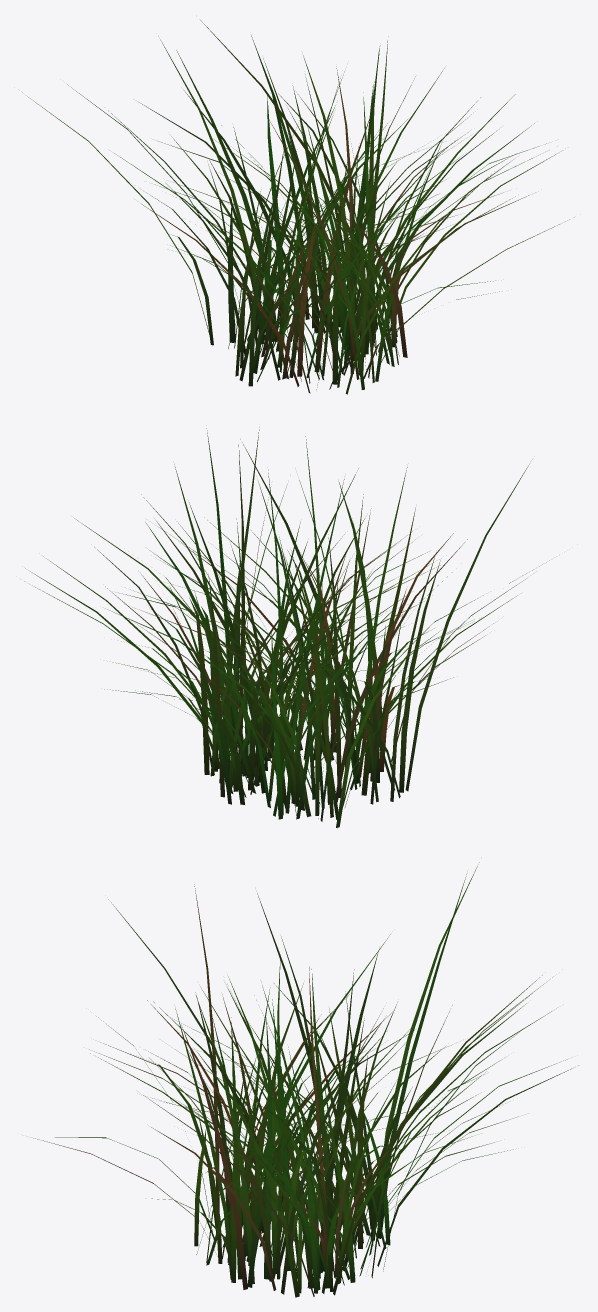
Rendered from RoadsideGrass_Green.fbx.
The picture shows the model from 3 angles, top to bottom: view 1: azimuth 30°, elevation 25°; view 2: azimuth 150°, elevation 25°; view 3: azimuth 270°, elevation 25°; orthographic projection. The views are drawn at different scales.
Parts seen in each view (by area): view 1: RoadsideGrass_Green; view 2: RoadsideGrass_Green; view 3: RoadsideGrass_Green.
Boxes of the visible parts, box(x1,y1,x2,y2) form: RoadsideGrass_Green: box(22, 20, 574, 394); RoadsideGrass_Green: box(24, 427, 549, 828); RoadsideGrass_Green: box(33, 862, 578, 1297).
Bounding box in the file's own units: 88.66 × 51.6 × 85.65.
